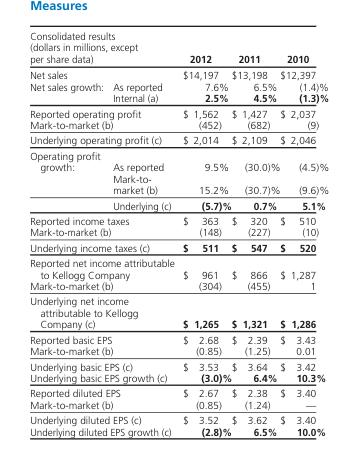table: (29, 29, 328, 437)
table column: (29, 29, 111, 437), (111, 29, 177, 437), (177, 29, 231, 437), (279, 29, 328, 437), (231, 29, 279, 437)
table column header: (29, 29, 328, 105)
table row: (29, 29, 328, 80), (29, 293, 328, 331), (29, 80, 328, 105), (29, 147, 328, 172), (29, 172, 328, 197), (29, 255, 328, 279), (29, 239, 328, 255), (29, 132, 328, 147), (29, 197, 328, 212), (29, 105, 328, 119), (29, 212, 328, 226), (29, 279, 328, 293), (29, 331, 328, 345), (29, 371, 328, 385), (29, 398, 328, 412), (29, 119, 328, 132), (29, 226, 328, 239), (29, 345, 328, 358), (29, 358, 328, 371), (29, 385, 328, 398), (29, 412, 328, 425), (29, 425, 328, 437)
table spanning cell: (29, 29, 177, 80), (29, 293, 177, 331), (29, 147, 111, 212), (177, 29, 231, 105), (279, 29, 328, 105), (231, 29, 279, 105), (29, 255, 177, 279), (29, 239, 177, 255), (29, 132, 177, 147), (29, 105, 177, 119), (29, 212, 177, 226), (29, 279, 177, 293), (29, 331, 177, 345), (29, 371, 177, 385), (29, 398, 177, 412), (29, 119, 177, 132), (29, 345, 177, 358), (29, 358, 177, 371), (29, 385, 177, 398), (29, 412, 177, 425), (29, 425, 177, 437)
